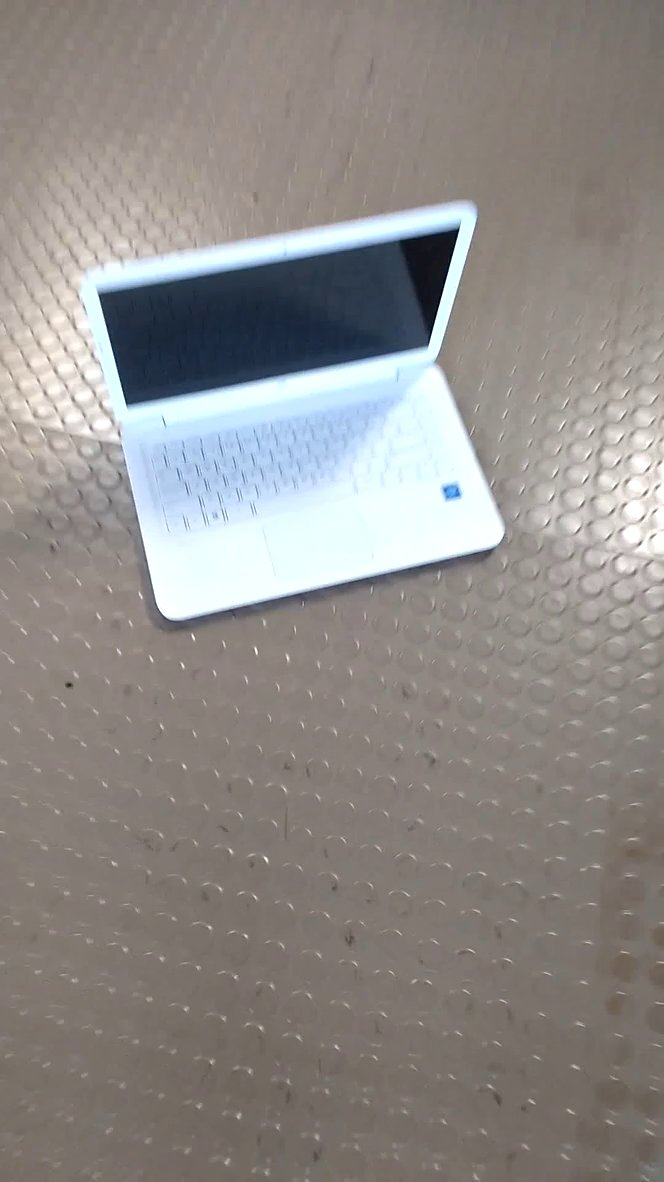laptop: (77, 191, 525, 634)
